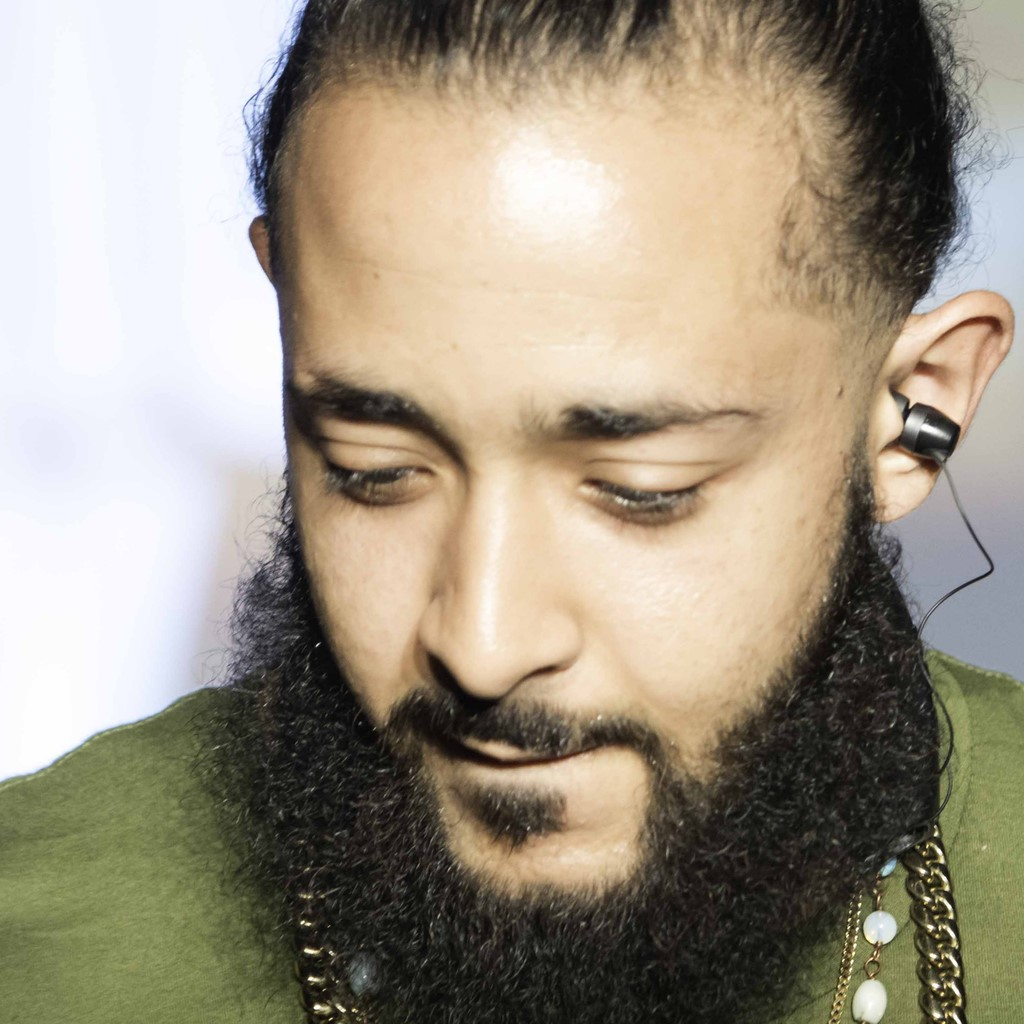sin_mascara: (252, 28, 922, 980)
